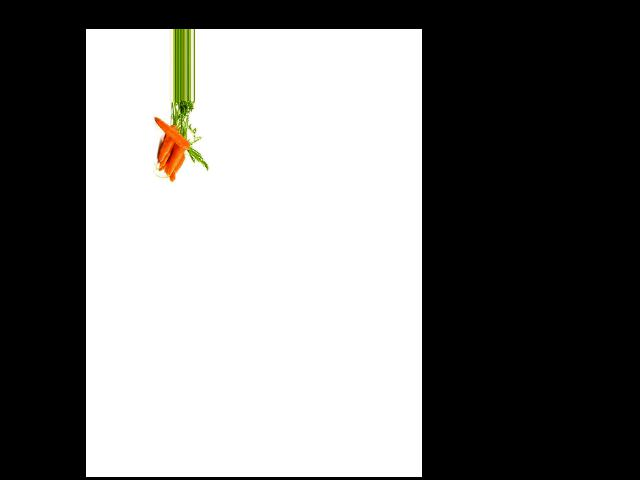carrot: (159, 122, 178, 168)
